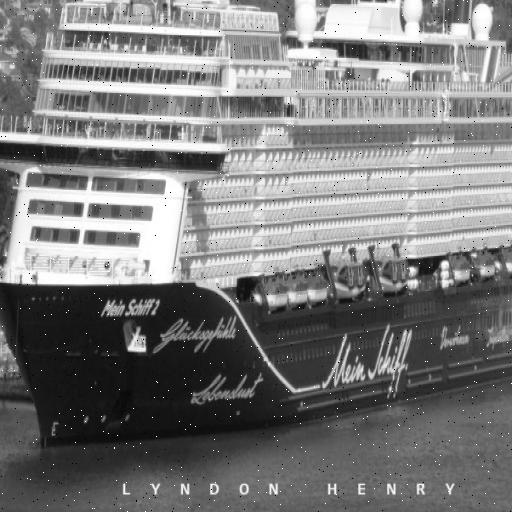cruises: (1, 1, 512, 455)
